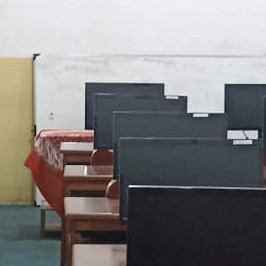monitor: (90, 92, 187, 176), (111, 111, 229, 178), (85, 82, 165, 130)
